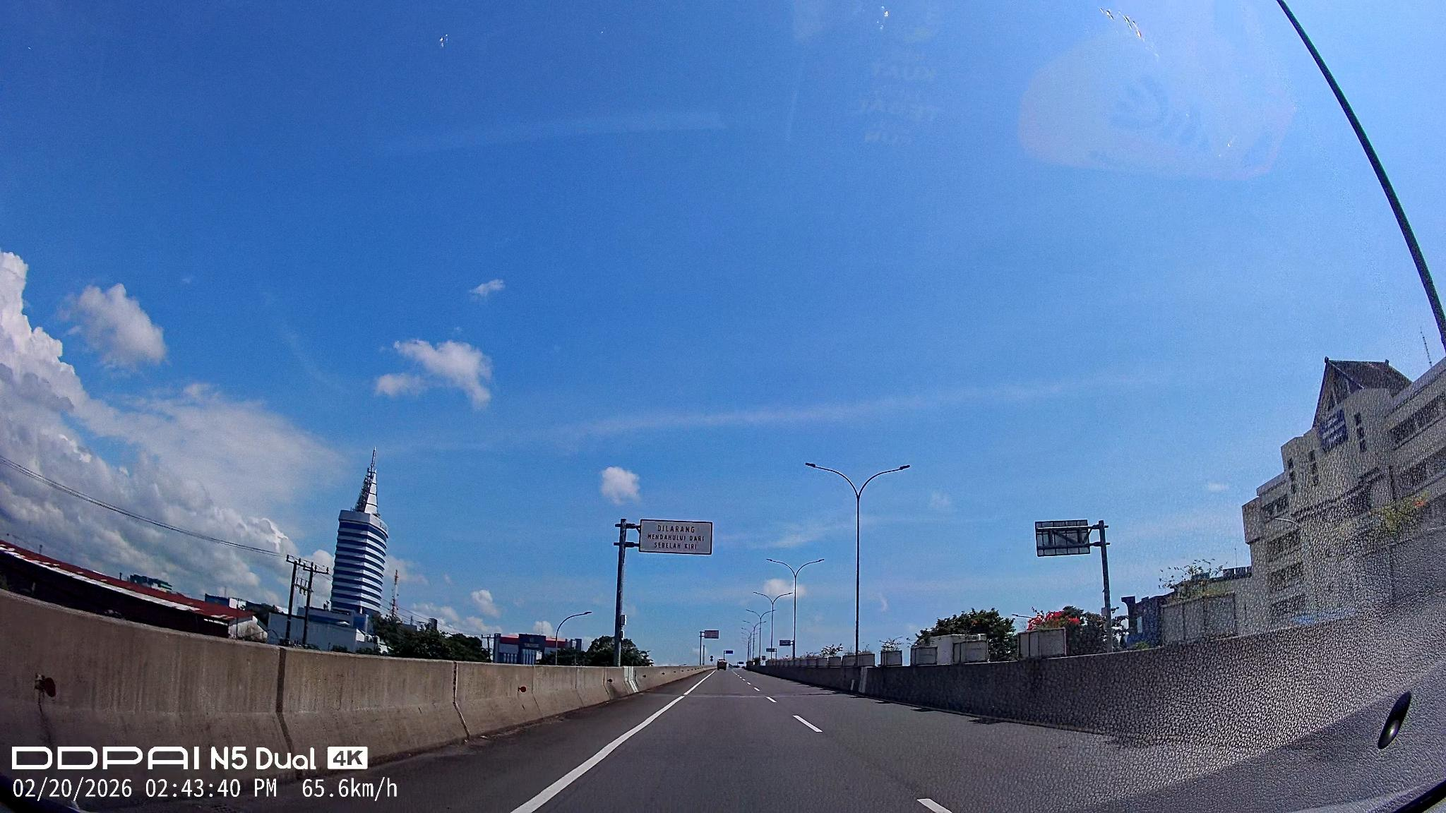rambu_teks: (639, 519, 713, 555)
